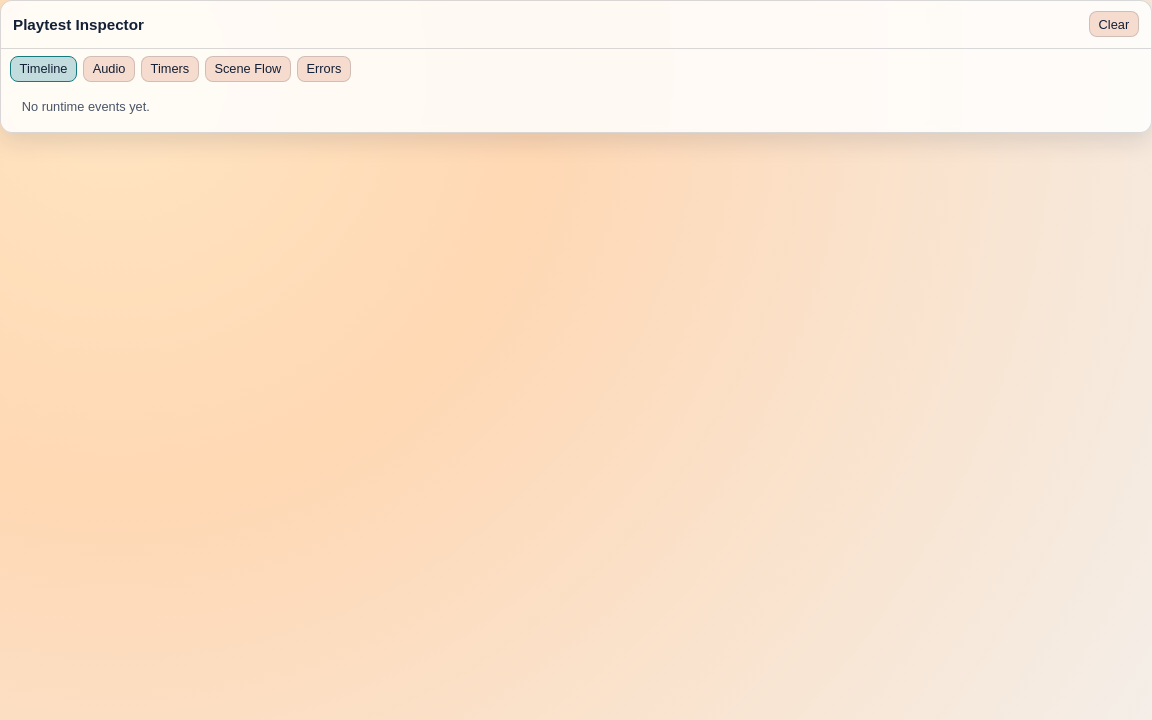
Test: PlaytestInspectorPanel › Timers tab shows empty state
Step 1. Click the button "Timers" → (170, 69), box top-left (141, 56), bottom-right (199, 82)
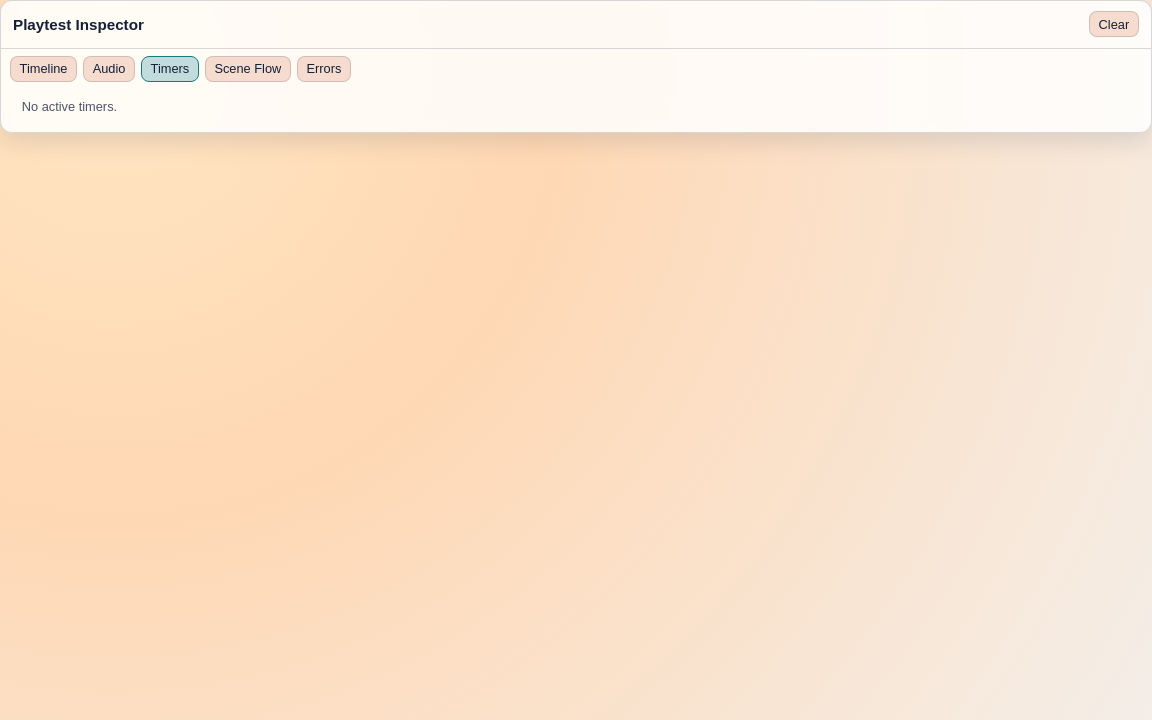
Check: the text "No active timers." is shown, box top-left (22, 99), bottom-right (117, 114)
